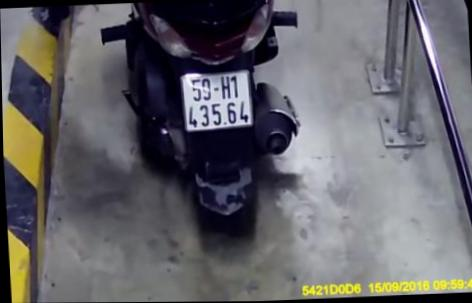LP: (177, 68, 257, 133)
